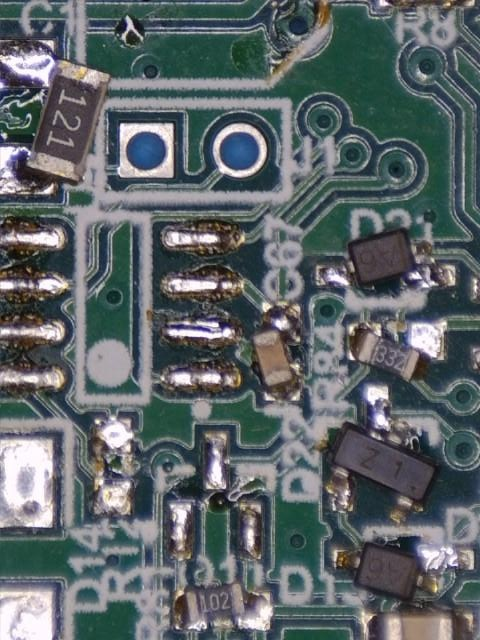pcb_defect: (324, 383, 443, 524), (316, 226, 457, 291), (335, 539, 476, 604), (347, 321, 448, 383), (170, 582, 273, 633), (250, 303, 302, 402)
